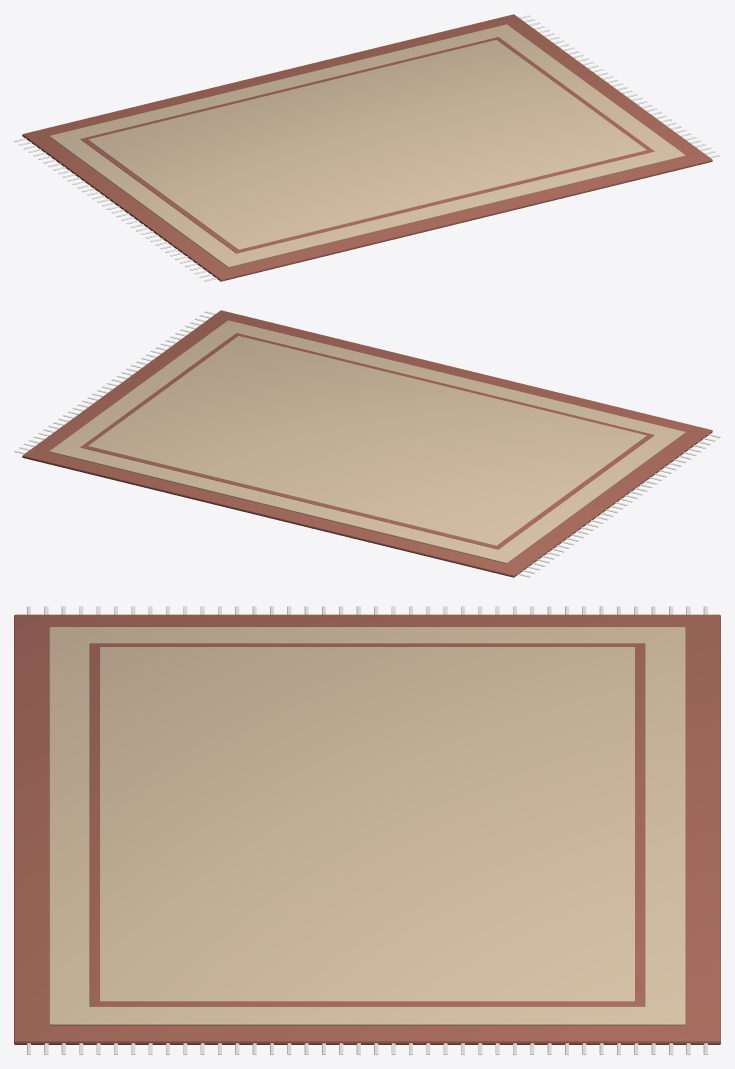
Rendered from rug.glb.
The picture shows the model from 3 angles, top to bottom: view 1: azimuth 30°, elevation 25°; view 2: azimuth 150°, elevation 25°; view 3: azimuth 270°, elevation 25°; orthographic projection. The views are drawn at different scales.
Parts seen in each view (by area): view 1: box.003, box.001, box, box.002; view 2: box.003, box.001, box, box.002; view 3: box.003, box.001, box, box.002.
Part boxes in pixels (box(x1,y1,x2,y2)): box.003: box(88, 40, 646, 249); box.001: box(49, 24, 685, 267); box: box(22, 14, 712, 281); box.002: box(80, 37, 654, 253); box.003: box(88, 336, 646, 545); box.001: box(49, 320, 685, 563); box: box(22, 310, 712, 577); box.002: box(80, 333, 654, 549); box.003: box(100, 647, 634, 1001); box.001: box(49, 627, 685, 1025); box: box(14, 614, 720, 1044); box.002: box(89, 643, 645, 1006).
Size of the model in its own units: 210 by 1.8 by 140.
